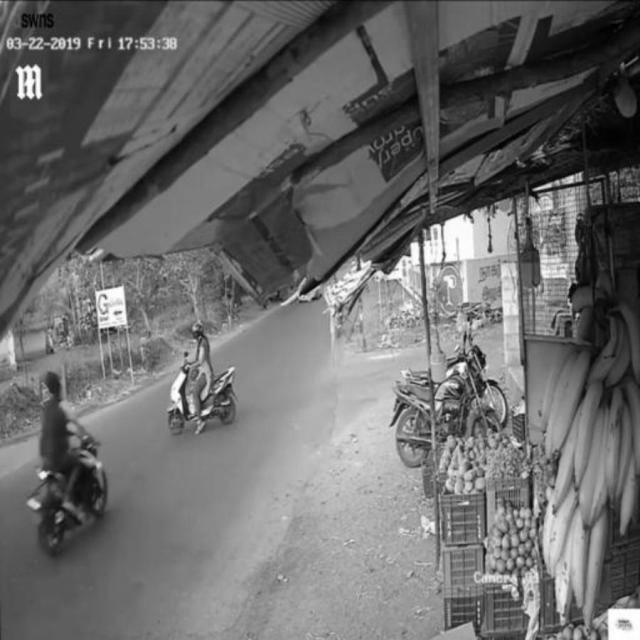vehicle: (26, 374, 114, 544), (394, 364, 500, 470), (167, 325, 238, 429)
